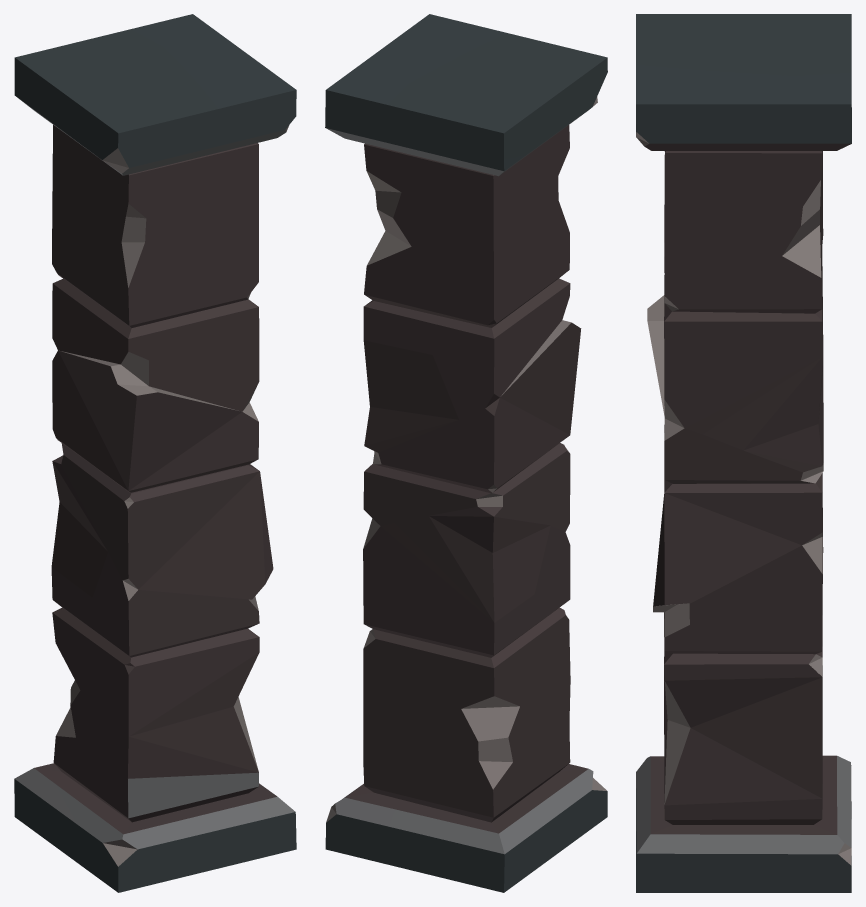
The model's file is Pillar.fbx.
The picture shows the model from 3 angles, left to right: view 1: azimuth 30°, elevation 25°; view 2: azimuth 150°, elevation 25°; view 3: azimuth 270°, elevation 25°; orthographic projection. The views are drawn at different scales.
Visible parts, largest first — view 1: Pillar; view 2: Pillar; view 3: Pillar.
Boxes of the visible parts, bbox=[...] form: Pillar: bbox=[14, 14, 296, 892]; Pillar: bbox=[325, 14, 607, 892]; Pillar: bbox=[636, 14, 851, 892].
Bounding box in the file's own units: 150 × 606 × 150.
